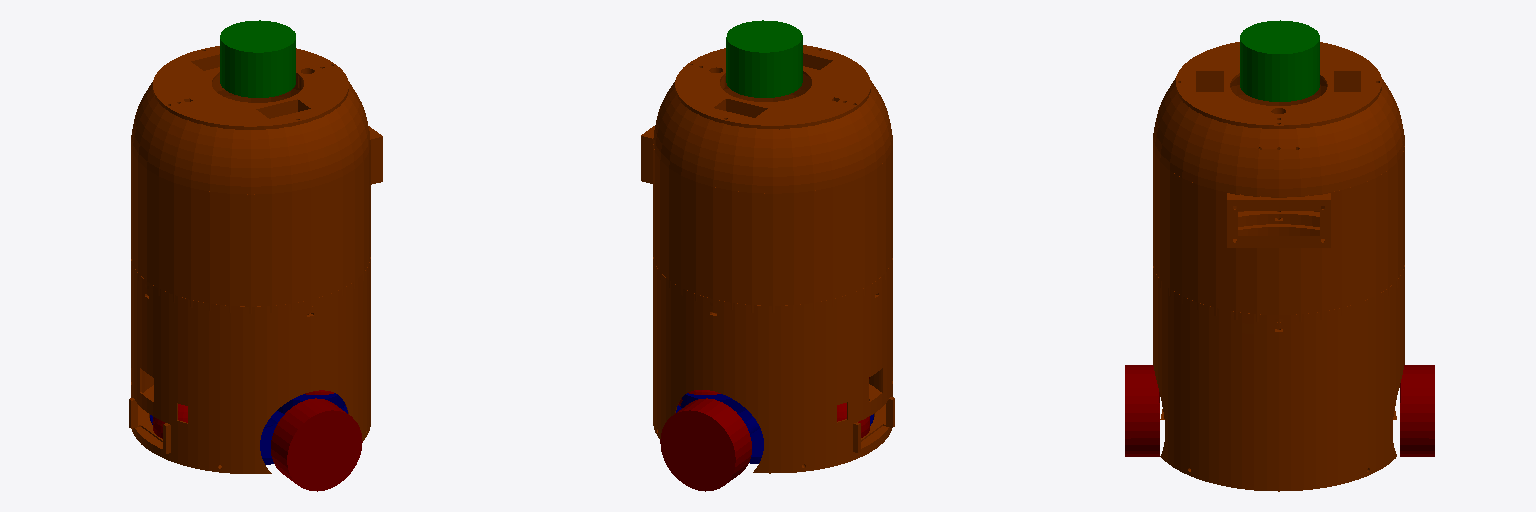
robot.urdf — robot:
<?xml version="1.0"?>	
<robot name="robot">

  <!--BASE FOOTPRINT-->
  <link name="base_footprint" />

  <!--===== Defining all colours here =====-->
  <material name="Orange">
    <color rgba="0.5 0.2 0.0 1" />
  </material>
  <material name="Yellow">
    <color rgba="0.5 0.5 0.0 1" />
  </material>
  <material name="Red">
    <color rgba="0.5 0.0 0.0 1" />
  </material>
  <material name="Blue">
    <color rgba="0.0 0.0 0.4 1" />
  </material>
  <material name="Green">
    <color rgba="0.0 0.4 0.0 1" />
  </material>


  <!--========================================== BASE LINK ==========================================-->
  <link name="base_link">
    <inertial>
      <origin xyz="0 0 0" rpy="0 0 0" />
      <mass value="70.0" />
      <inertia ixx="0.079945" ixy="0.00012078" ixz="0.00015606" iyy="0.068406" iyz="-0.0049053" izz="0.12343" />
    </inertial>
  <visual>
    <!--origin xyz="0 0 0" rpy="0 0 -1.57" /-->
    <origin xyz="0 0 -0.015" rpy="0 0 -1.57" />
    <geometry>
      <!--cylinder length="0.007" radius="0.13"/-->
      <mesh filename="package://my_robot_model/urdf/meshes/Base_Plate.stl" scale="0.001 0.001 0.001"/>
    </geometry>
    <material name="Blue" />
  </visual>
  <collision>
    <!--origin xyz="0 0 0" rpy="0 0 -1.57" /-->
    <origin xyz="0 0 -0.015" rpy="0 0 -1.57" />
    <geometry>
      <!--cylinder length="0.007" radius="0.13"/-->
      <mesh filename="package://my_robot_model/urdf/meshes/Base_Plate.stl" scale="0.001 0.001 0.001"/>
    </geometry>
  </collision>
  </link>


  <!--========================================== BASE JOINT ==========================================-->
  <joint name="base_joint" type="fixed">
    <origin xyz="0 0 0.0335" rpy="0 0 0" />
    <parent link="base_footprint" />
    <child link="base_link" />
    <axis xyz="0 0 0" />
  </joint>


  <!--========================================== ROBOT BODY LINK==========================================-->
  <link name="robot_body_link">
    <inertial>
      <origin xyz="0 0 0" rpy="0 0 0" />
      <mass value="70.0" />
      <inertia ixx="0.079945" ixy="0.00012078" ixz="0.00015606" iyy="0.068406" iyz="-0.0049053" izz="0.12343" />
    </inertial>
  <visual>
    <!--origin xyz="0 0 0" rpy="0 0 0" /-->
    <origin xyz="0.0 0 -0.19125" rpy="0 0 -1.57" />
    <geometry>
      <!--cylinder length="0.35" radius="0.13"/-->
      <mesh filename="package://my_robot_model/urdf/meshes/Robot_Cover_Full.stl" scale="0.001 0.001 0.001"/>
    </geometry>
    <material name="Orange" />
  </visual>
  <collision>
    <!--origin xyz="0 0 0" rpy="0 0 0" /-->
    <origin xyz="0.0 0 -0.19125" rpy="0 0 -1.57" />
    <geometry>
      <!--cylinder length="0.35" radius="0.13"/-->
      <mesh filename="package://my_robot_model/urdf/meshes/Robot_Cover_Full.stl" scale="0.001 0.001 0.001"/>
    </geometry>
  </collision>
  </link>


  <!--========================================== ROBOT BODY JOINT ==========================================-->
  <joint name="robot_body_joint" type="fixed">
    <origin xyz="0 0 0.175" rpy="0 0 0" />
    <parent link="base_link" />
    <child link="robot_body_link" />
    <axis xyz="0 0 0" />
  </joint>


  <!--========================================== RIGHT WHEEL LINK ==========================================-->
  <link name="right_wheel_link">
    <inertial>
      <origin xyz="0.0 0.0 0.0" rpy="0 0 0" />
      <mass value="0.50917" />
      <inertia ixx="0.0012185" ixy="1.8059E-20" ixz="3.0427E-20" iyy="0.0012185" iyz="-4.0491E-20" izz="0.0022928" />
    </inertial>
    <visual>
      <origin xyz="0 0 0" rpy="0 0 0" />
      <geometry>
        <cylinder length="0.03" radius="0.04" />
      </geometry>
      <material name="Red" />
    </visual>
    <collision>
      <origin xyz="0 0 0" rpy="0 0 0" />
      <geometry>
        <cylinder length="0.03" radius="0.04" />
      </geometry>
    </collision>
  </link>

  <!--========================================== RIGHT WHEEL JOINT ==========================================-->
  <joint name="right_wheel_joint" type="continuous">
    <origin xyz="0.0 -0.12 0.01" rpy="1.571 0 0" />
    <parent link="base_link" />
    <child link="right_wheel_link" />
    <axis xyz="0 0 -1" />
  </joint>

  <transmission name="right_wheel_trans" type="SimpleTransmission">
    <type>transmission_interface/SimpleTransmission</type>
    <actuator name="right_wheel_motor">
      <mechanicalReduction>1</mechanicalReduction>
    </actuator>
    <joint name="right_wheel_joint">
      <hardwareInterface>VelocityJointInterface</hardwareInterface>
    </joint>
  </transmission>




  <!--========================================== LEFT WHEEL LINK ==========================================-->
  <link name="left_wheel_link">
    <inertial>
      <origin xyz="0.0 0.0 0.0" rpy="0 0 0" />
      <mass value="0.50917" />
      <inertia ixx="0.0012185" ixy="1.8059E-20" ixz="3.0427E-20" iyy="0.0012185" iyz="-4.0491E-20" izz="0.0022928" />
    </inertial>
    <visual>
      <origin xyz="0 0 0" rpy="0 0 0" />
      <geometry>
        <cylinder length="0.03" radius="0.04" />
      </geometry>
      <material name="Red" />
    </visual>
    <collision>
      <origin xyz="0 0 0" rpy="0 0 0" />
      <geometry>
        <cylinder length="0.03" radius="0.04" />
      </geometry>
    </collision>
  </link>

  <!--========================================== LEFT WHEEL JOINT ==========================================-->
  <joint name="left_wheel_joint" type="continuous">
    <origin xyz="0.0 0.12 0.01" rpy="-1.571 0 0" />
    <parent link="base_link" />
    <child link="left_wheel_link" />
    <axis xyz="0 0 1" />
  </joint>

  <transmission name="left_wheel_trans" type="SimpleTransmission">
    <type>transmission_interface/SimpleTransmission</type>
    <actuator name="left_wheel_motor">
      <mechanicalReduction>1</mechanicalReduction>
    </actuator>
    <joint name="left_wheel_joint">
      <hardwareInterface>VelocityJointInterface</hardwareInterface>
    </joint>
  </transmission>




  <!--=============================================== FRONT CASTOR WHEEL LINK ===============================================-->
  <link name="front_castor_wheel_link">
    <inertial>
      <origin xyz="0.0 0.0 0.0" rpy="0 0 0" />
      <mass value="0.50917" />
      <inertia ixx="0.0012185" ixy="1.8059E-20" ixz="3.0427E-20" iyy="0.0012185" iyz="-4.0491E-20" izz="0.0022928" />
    </inertial>
    <visual>
      <origin xyz="0 0 0" rpy="0 0 0" />
      <geometry>
        <sphere radius="0.03" />
      </geometry>
      <material name="Red" />
    </visual>
    <collision>
      <origin xyz="0 0 0" rpy="0 0 0" />
      <geometry>
        <sphere radius="0.03" />
      </geometry>
    </collision>
  </link>

  <!--============================================ FRONT CASTOR WHEEL JOINT ============================================-->
  <joint name="front_castor_wheel_joint" type="continuous">
    <origin xyz="0.07 0.0 0.0" rpy="0 0 0" />
    <parent link="base_link" />
    <child link="front_castor_wheel_link" />
    <axis xyz="0 1 1" />
  </joint>


  <!--=============================================== REAR CASTOR WHEEL LINK ===============================================-->
  <link name="rear_castor_wheel_link">
    <inertial>
      <origin xyz="0.0 0.0 0.0" rpy="0 0 0" />
      <mass value="0.50917" />
      <inertia ixx="0.0012185" ixy="1.8059E-20" ixz="3.0427E-20" iyy="0.0012185" iyz="-4.0491E-20" izz="0.0022928" />
    </inertial>
    <visual>
      <origin xyz="0 0 0" rpy="0 0 0" />
      <geometry>
        <sphere radius="0.03" />
      </geometry>
      <material name="Red" />
    </visual>
    <collision>
      <origin xyz="0 0 0" rpy="0 0 0" />
      <geometry>
        <sphere radius="0.03" />
      </geometry>
    </collision>
  </link>

  <!--============================================ REAR CASTOR WHEEL JOINT ============================================-->
  <joint name="rear_castor_wheel_joint" type="continuous">
    <origin xyz="-0.07 0.0 0.0" rpy="0 0 0" />
    <parent link="base_link" />
    <child link="rear_castor_wheel_link" />
    <axis xyz="0 1 1" />
  </joint>


  <!--========================================== LASER LINK ==========================================-->
  <link name="laser_link">
    <inertial>
      <origin xyz="0 0 0" rpy="0 0 0" />
      <mass value="0.0093378" />
      <inertia ixx="0" ixy="0" ixz="0" iyy="0" iyz="0" izz="0" /> 
    </inertial>
    <visual>
      <origin xyz="0 0 0" rpy="0 0 0" />
      <geometry>
        <cylinder length="0.046" radius="0.035" />
      </geometry>
      <material name="Green" />
    </visual>
    <collision>
      <origin xyz="0 0 0" rpy="0 0 0" />
      <geometry>
        <cylinder length="0.046" radius="0.035" />
      </geometry>
    </collision>
  </link>

  <!--========================================== LASER JOINT ==========================================-->
  <joint name="laser_joint" type="fixed">
    <origin xyz="0.0075 0.0 0.35" rpy="0 0 3.14" />
    <parent link="base_link" />
    <child link="laser_link" />
    <axis xyz="0 0 0" />
  </joint>


</robot>


--- Facts derived from the render (not from the file) ---
3 views of the same robot in one strip: view 1: azimuth 30°, elevation 25°; view 2: azimuth 150°, elevation 25°; view 3: azimuth 270°, elevation 25° (orthographic).
Model robot with 8 links and 7 joints (4 continuous, 3 fixed), rooted at base_footprint, posed all joints at 0.
Links seen in each view (by area): view 1: robot_body_link, right_wheel_link, laser_link, base_link; view 2: robot_body_link, left_wheel_link, laser_link, base_link; view 3: robot_body_link, laser_link, left_wheel_link, right_wheel_link.
Link boxes in pixels (x1=…): robot_body_link: x1=129, y1=46, x2=382, y2=473; right_wheel_link: x1=271, y1=398, x2=362, y2=491; laser_link: x1=220, y1=20, x2=295, y2=97; base_link: x1=150, y1=393, x2=347, y2=464; robot_body_link: x1=641, y1=45, x2=894, y2=473; left_wheel_link: x1=660, y1=398, x2=751, y2=491; laser_link: x1=726, y1=20, x2=802, y2=97; base_link: x1=676, y1=393, x2=873, y2=463; robot_body_link: x1=1153, y1=42, x2=1404, y2=491; laser_link: x1=1240, y1=20, x2=1319, y2=101; left_wheel_link: x1=1400, y1=365, x2=1434, y2=456; right_wheel_link: x1=1125, y1=365, x2=1159, y2=456.
Bounding box of the posed robot: 0.224 × 0.27 × 0.403 m (x, y, z).
Meshes: 2 distinct files referenced, 2 mesh visuals loaded (2 binary STL).